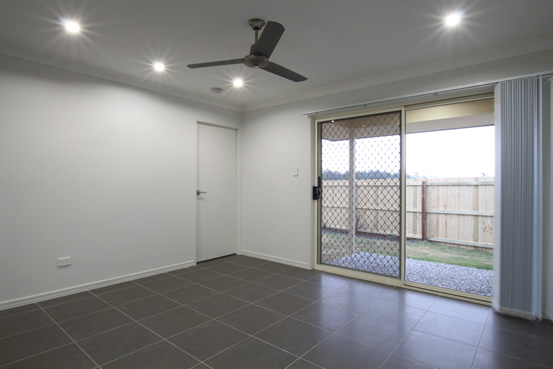ceiling fan: (184, 21, 315, 94)
